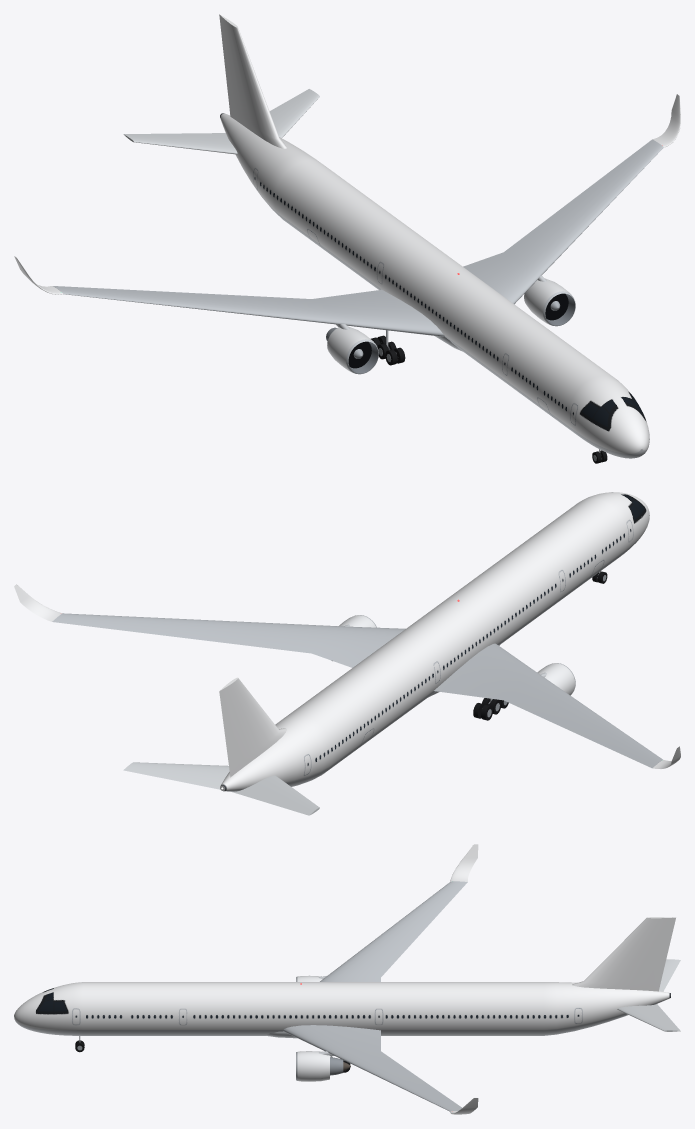
3 renders of one model, top to bottom at view 1: azimuth 30°, elevation 25°; view 2: azimuth 150°, elevation 25°; view 3: azimuth 270°, elevation 25°, orthographic. The views are drawn at different scales.
Visible parts, largest first — view 1: body, gear; view 2: body, gear; view 3: body.
Part boxes in pixels (box(x1,y1,x2,y2)): body: box(14, 14, 680, 458); gear: box(371, 330, 607, 463); body: box(14, 492, 680, 815); gear: box(473, 571, 607, 720); body: box(14, 844, 680, 1114).
Bounding box in the file's own units: 67.4 × 16.46 × 74.91.
19 materials, 1 textured.
